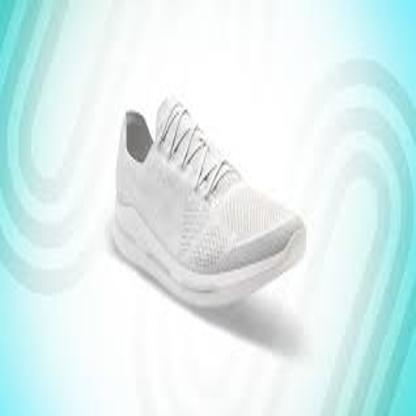not trash: (105, 97, 306, 312)
